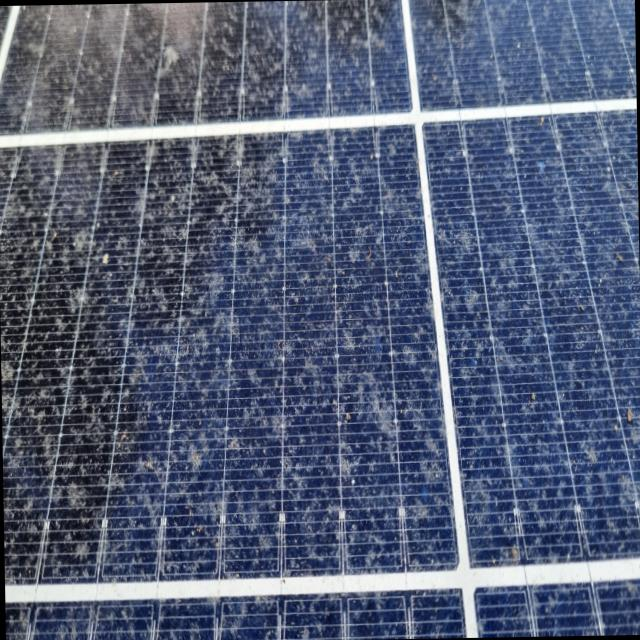faulty: (6, 21, 628, 612)
